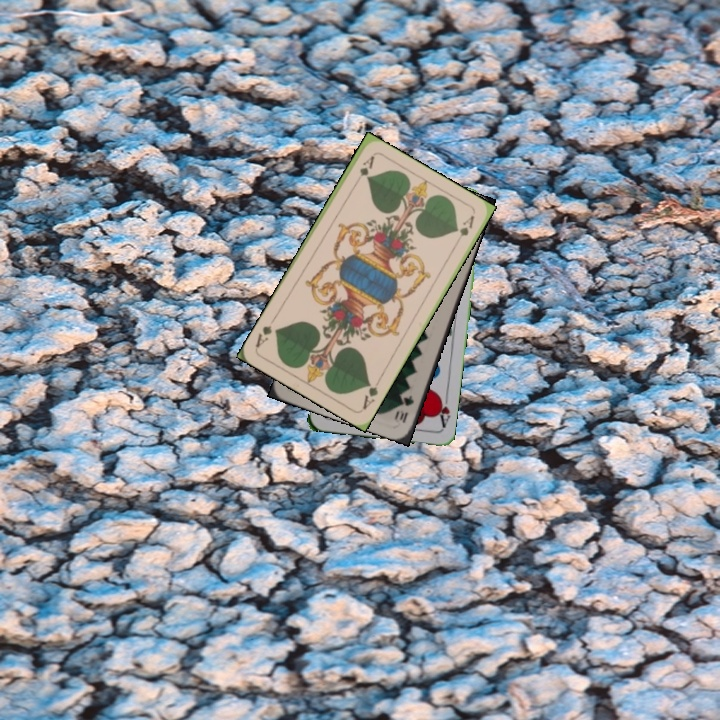G10: (392, 391, 416, 426)
GA: (350, 152, 377, 189), (358, 374, 383, 412)
HA: (433, 390, 453, 430)
